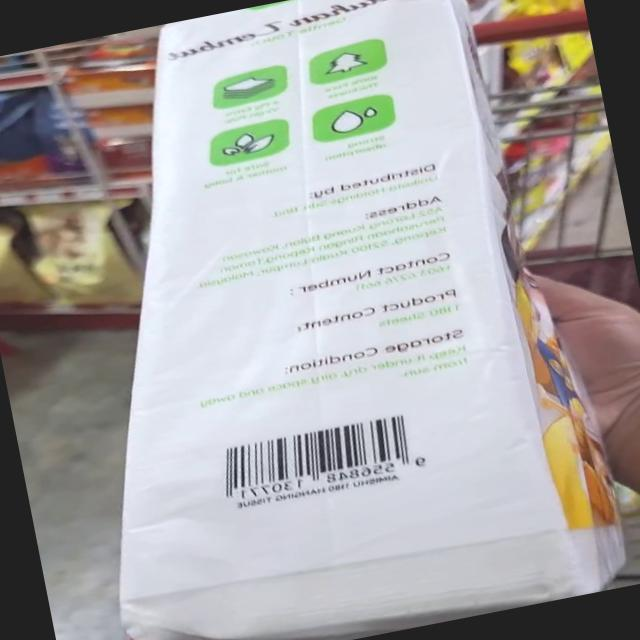Tisu: (58, 232, 635, 640), (89, 0, 520, 335)
